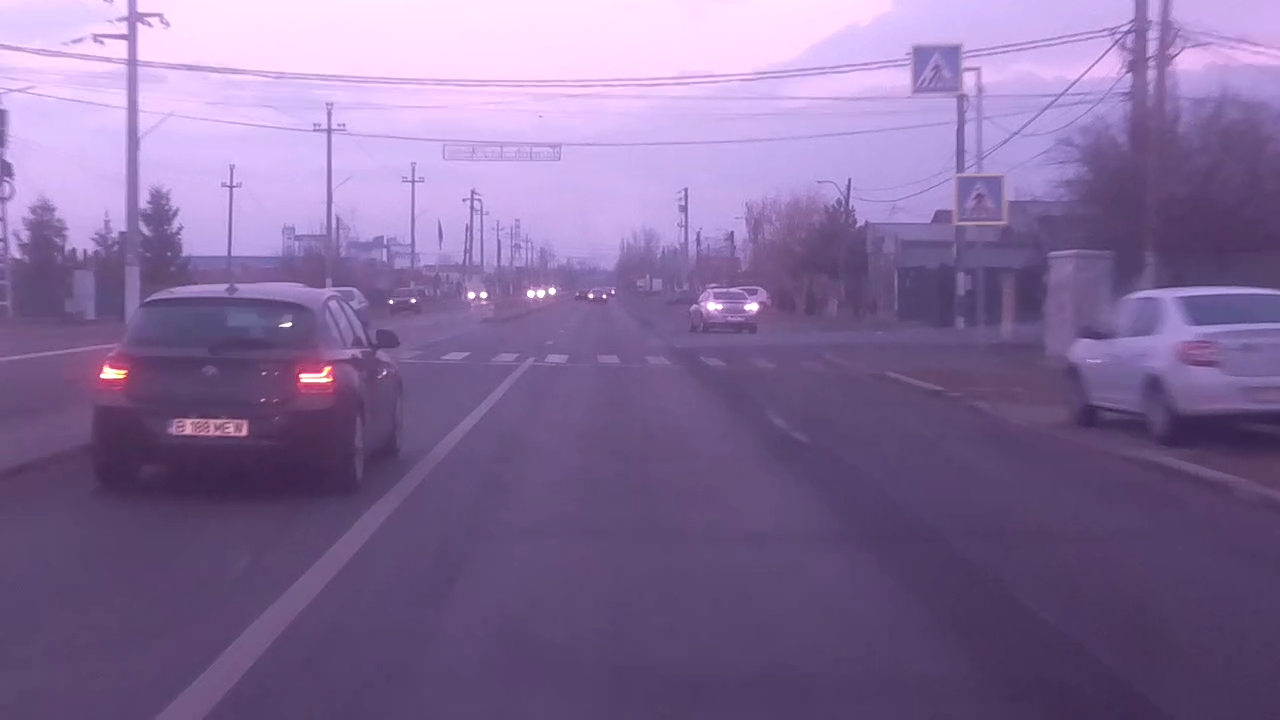license-plate: (160, 413, 253, 440)
